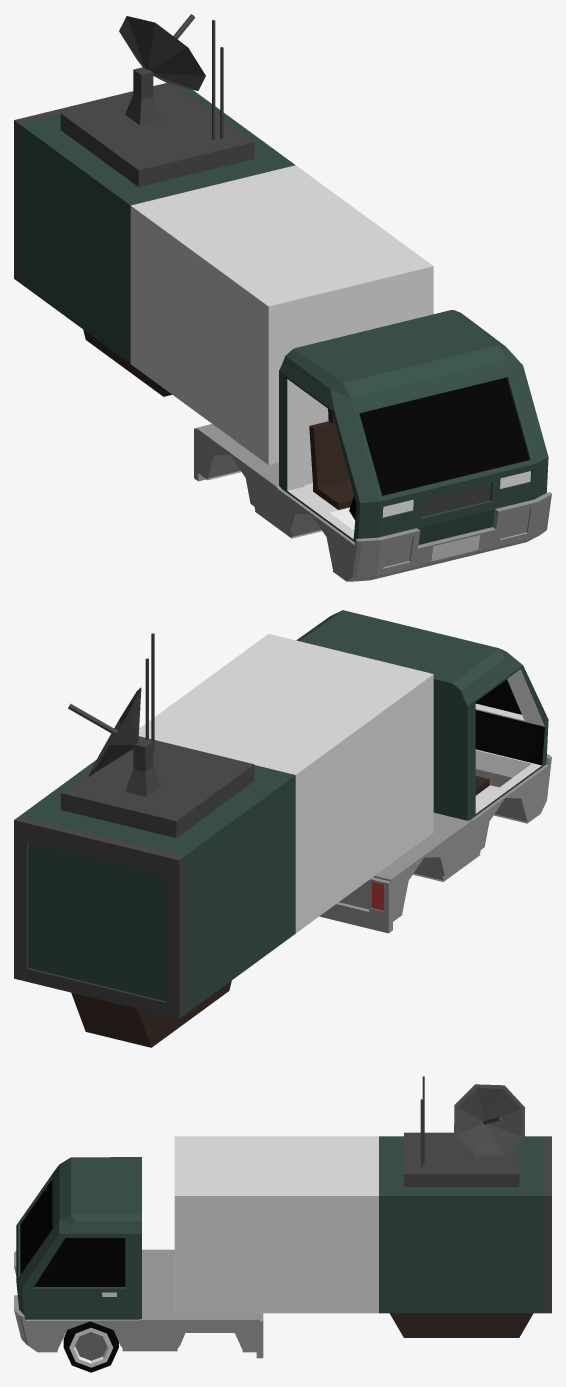
File: ADI Rig.fbx
3 renders of one model, top to bottom at view 1: azimuth 30°, elevation 25°; view 2: azimuth 150°, elevation 25°; view 3: azimuth 270°, elevation 25°, orthographic. The views are drawn at different scales.
Parts seen in each view (by area): view 1: Trailer, Tanker Truck, Radar; view 2: Trailer, Tanker Truck, Trailer Door, Radar; view 3: Trailer, Tanker Truck, Door, Radar, Wheel.
Boxes of the visible parts, left/top/right/bottom form: Trailer: left=14, top=20, right=433, bottom=464; Tanker Truck: left=194, top=310, right=551, bottom=581; Radar: left=119, top=14, right=205, bottom=90; Trailer: left=14, top=633, right=433, bottom=1047; Tanker Truck: left=296, top=610, right=551, bottom=933; Trailer Door: left=19, top=833, right=173, bottom=1011; Radar: left=68, top=687, right=141, bottom=776; Trailer: left=174, top=1076, right=551, bottom=1337; Tanker Truck: left=14, top=1157, right=263, bottom=1358; Door: left=27, top=1235, right=129, bottom=1318; Radar: left=454, top=1084, right=525, bottom=1158; Wheel: left=63, top=1321, right=118, bottom=1372.
Size of the model in its own units: 283 by 515 by 913.
